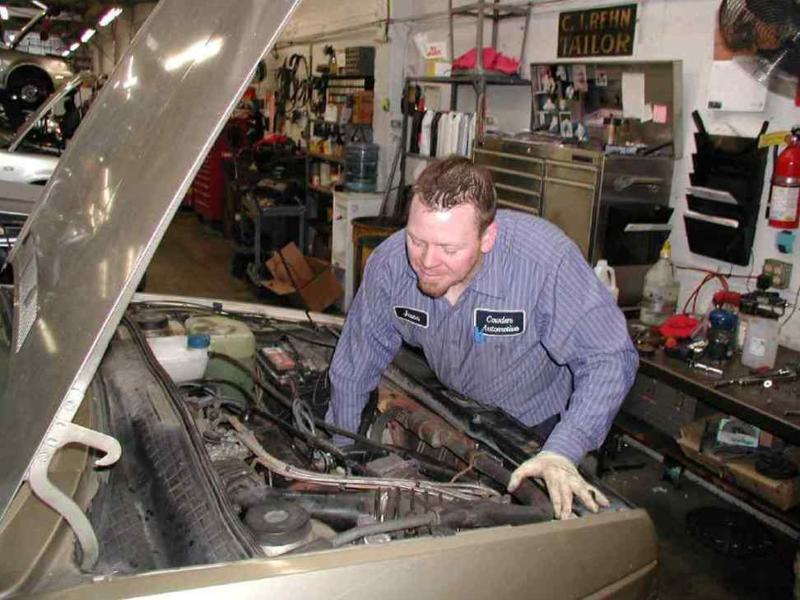person: (324, 154, 641, 526)
